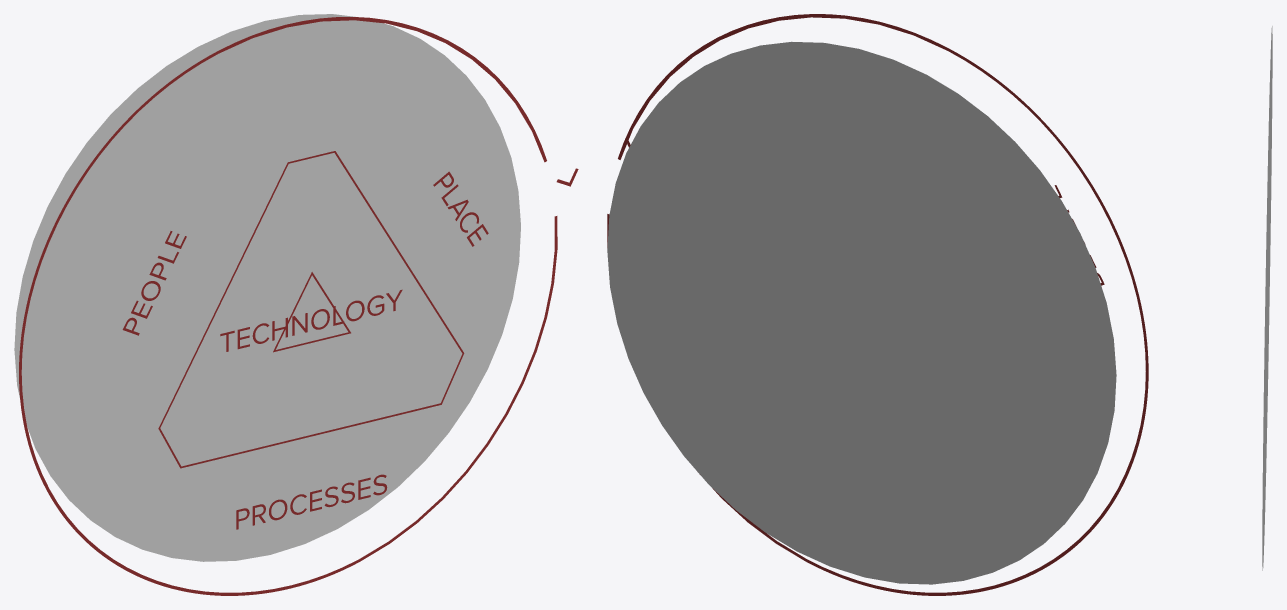
The model's file is asset-1.glb.
3 views of the same model, side by side, from view 1: azimuth 30°, elevation 25°; view 2: azimuth 150°, elevation 25°; view 3: azimuth 270°, elevation 25° (orthographic). The views are drawn at different scales.
Parts seen in each view (by area): view 1: Curve.034, Curve.023, Curve; view 2: Curve.034, Curve.023; view 3: Curve.034.
Part boxes in pixels (bbox=[...]): Curve.034: bbox=[14, 14, 520, 561]; Curve.023: bbox=[19, 17, 557, 595]; Curve: bbox=[158, 151, 464, 468]; Curve.034: bbox=[607, 41, 1116, 584]; Curve.023: bbox=[607, 14, 1148, 595]; Curve.034: bbox=[1262, 26, 1272, 570].
Bounding box in the file's own units: 6.17 × 6.17 × 1.01.
